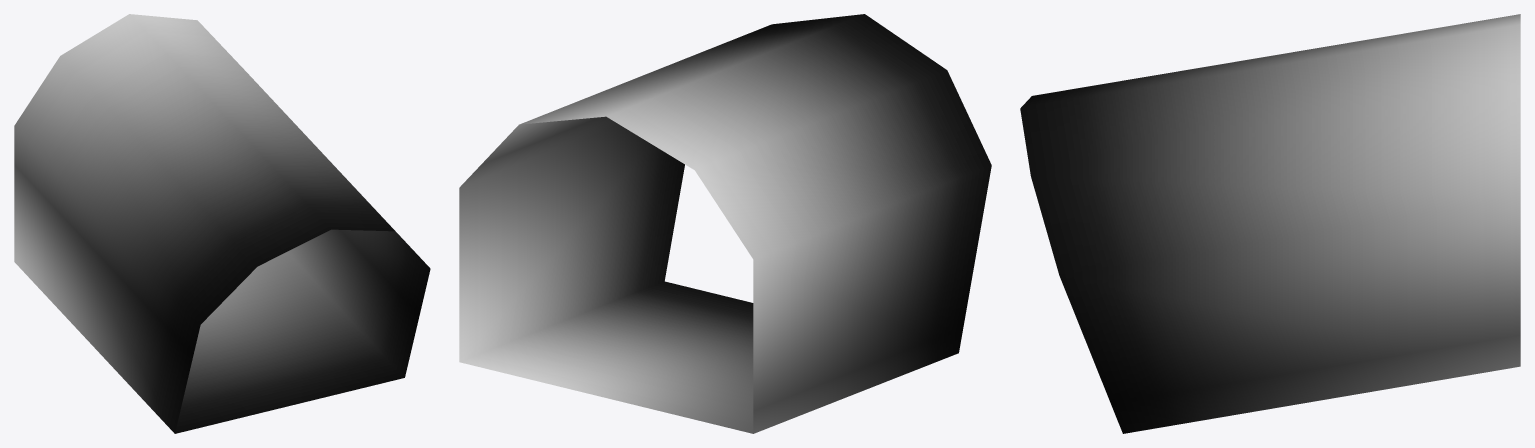
Rendered from GodRay1.FBX.
The picture shows the model from 3 angles, left to right: view 1: azimuth 30°, elevation 25°; view 2: azimuth 150°, elevation 25°; view 3: azimuth 270°, elevation 25°; orthographic projection. The views are drawn at different scales.
Parts seen in each view (by area): view 1: BedroomWindowBeams; view 2: BedroomWindowBeams; view 3: BedroomWindowBeams.
Boxes of the visible parts, box(x1,y1,x2,y2) form: BedroomWindowBeams: box(14, 14, 430, 433); BedroomWindowBeams: box(459, 14, 991, 433); BedroomWindowBeams: box(1020, 14, 1520, 433).
Bounding box in the file's own units: 428 × 488 × 651.
Materials: 1 (1 with a texture image).
